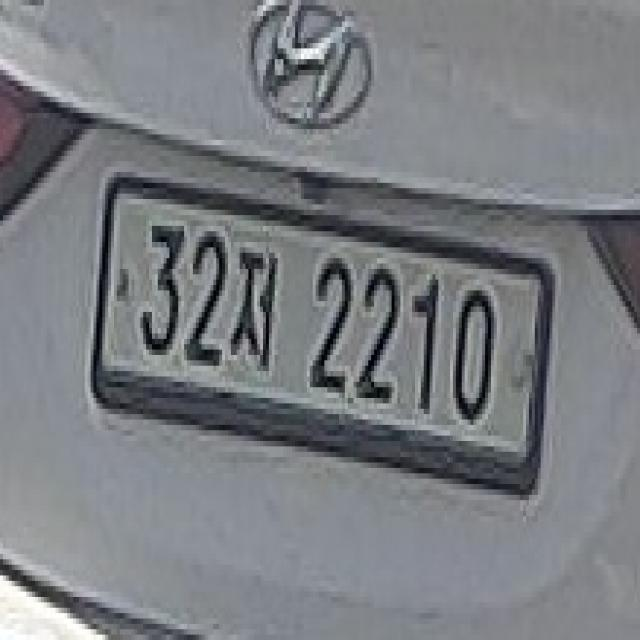0: (450, 280, 497, 425)
1: (409, 269, 438, 414)
2: (304, 252, 354, 392), (356, 269, 404, 409), (184, 226, 225, 366)
3: (140, 210, 187, 366)
jeo: (225, 242, 281, 371)
license_plate: (93, 183, 540, 462)
